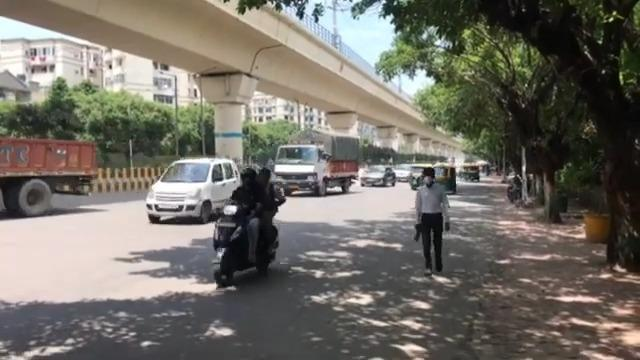Auto: (409, 163, 432, 190)
Bike: (209, 163, 286, 287)
Truck: (0, 135, 98, 217), (271, 127, 360, 196)
